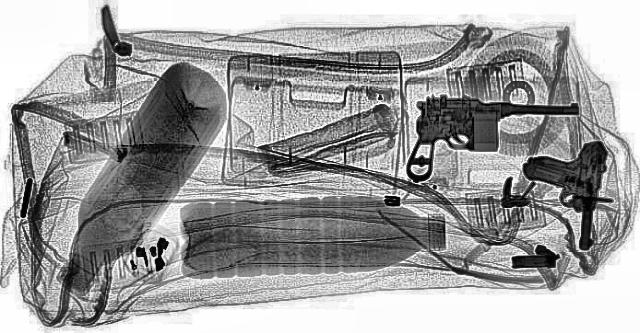Gun: (404, 93, 584, 185), (510, 138, 610, 250)
